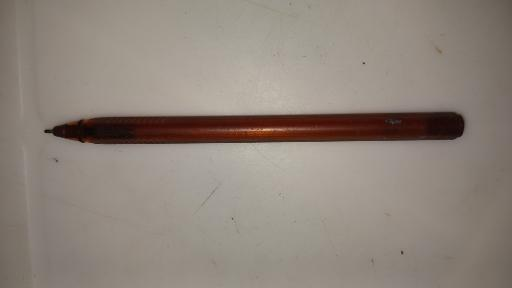pen: (45, 111, 464, 145)
